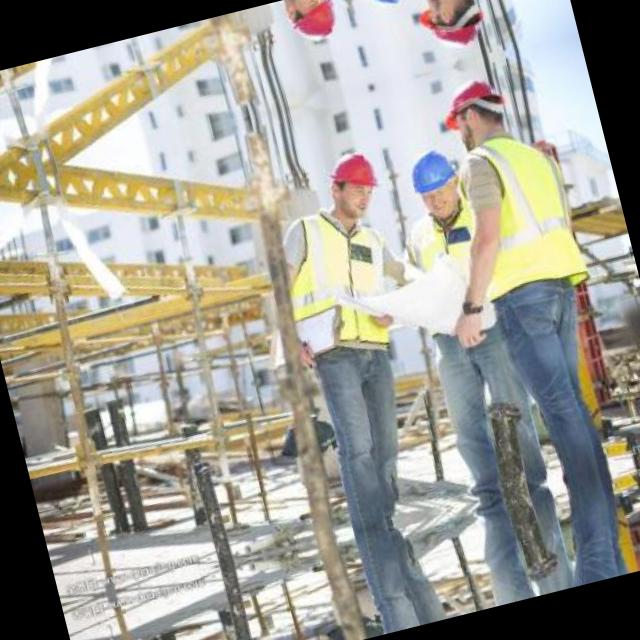helmet: (433, 65, 518, 155), (400, 138, 470, 228), (318, 142, 387, 222), (410, 0, 495, 62), (278, 0, 345, 53), (357, 0, 417, 18)
